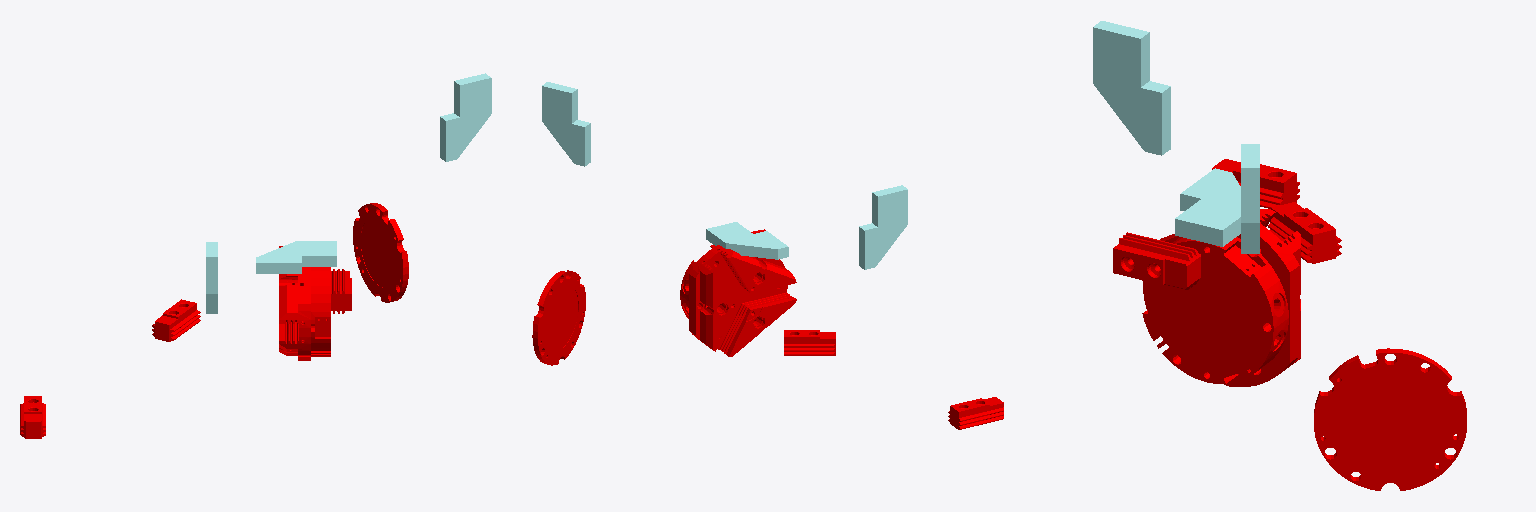
URDF robot description (gripper_schunk_kuka):
<?xml version="1.0" encoding="utf-8"?>
<!-- This URDF was automatically created by SolidWorks to URDF Exporter! Originally created by [author] ([email redacted]) 
     Commit Version: 1.5.1-0-g916b5db  Build Version: 1.5.7152.31018
     For more information, please see http://wiki.ros.org/sw_urdf_exporter -->
<robot
  name="gripper_schunk_kuka">
  <link
    name="base_link_grp">
    <inertial>
      <origin
        xyz="-0.12444 0.015119 0.11802"
        rpy="0 0 0" />
      <mass
        value="4.3869E-05" />
      <inertia
        ixx="2.7228E-08"
        ixy="3.0486E-12"
        ixz="-9.7953E-11"
        iyy="5.2891E-08"
        iyz="-8.2542E-13"
        izz="2.5932E-08" />
    </inertial>
    <visual>
      <origin
        xyz="0 0 0"
        rpy="0 0 0" />
      <geometry>
        <mesh
          filename="package://gripper_schunk_kuka/meshes/base_link_grp.STL" />
      </geometry>
      <material
        name="">
        <color
          rgba="1 0 0 1" />
      </material>
    </visual>
    <collision>
      <origin
        xyz="0 0 0"
        rpy="0 0 0" />
      <geometry>
        <mesh
          filename="package://gripper_schunk_kuka/meshes/base_link_grp.STL" />
      </geometry>
    </collision>
  </link>
  <link
    name="structure_grp">
    <inertial>
      <origin
        xyz="-0.00021291 0.023532 3.5559E-05"
        rpy="0 0 0" />
      <mass
        value="0.00035228" />
      <inertia
        ixx="3.1958E-07"
        ixy="-1.5683E-10"
        ixz="-2.4056E-09"
        iyy="5.08E-07"
        iyz="-5.9261E-10"
        izz="3.2245E-07" />
    </inertial>
    <visual>
      <origin
        xyz="0 0 0"
        rpy="0 0 0" />
      <geometry>
        <mesh
          filename="package://gripper_schunk_kuka/meshes/structure_grp.STL" />
      </geometry>
      <material
        name="">
        <color
          rgba="1 0 0 1" />
      </material>
    </visual>
    <collision>
      <origin
        xyz="0 0 0"
        rpy="0 0 0" />
      <geometry>
        <mesh
          filename="package://gripper_schunk_kuka/meshes/structure_grp.STL" />
      </geometry>
    </collision>
  </link>
  <joint
    name="base_to_str_grp"
    type="fixed">
    <origin
      xyz="-0.12498 -0.11817 0.018142"
      rpy="1.5708 0 2.618" />
    <parent
      link="base_link_grp" />
    <child
      link="structure_grp" />
    <axis
      xyz="0 0 0" />
  </joint>

  <link
    name="guide_1_grp">
    <inertial>
      <origin
        xyz="9.8421E-12 0.0094502 0.027502"
        rpy="0 0 0" />
      <mass
        value="2.1395E-05" />
      <inertia
        ixx="5.8843E-09"
        ixy="1.1603E-18"
        ixz="4.0999E-18"
        iyy="6.0491E-09"
        iyz="-7.7428E-11"
        izz="1.5164E-09" />
    </inertial>
    <visual>
      <origin
        xyz="0 0 0"
        rpy="0 0 0" />
      <geometry>
        <mesh
          filename="package://gripper_schunk_kuka/meshes/guide_1_grp.STL" />
      </geometry>
      <material
        name="">
        <color
          rgba="1 0 0 1" />
      </material>
    </visual>
    <collision>
      <origin
        xyz="0 0 0"
        rpy="0 0 0" />
      <geometry>
        <mesh
          filename="package://gripper_schunk_kuka/meshes/guide_1_grp.STL" />
      </geometry>
    </collision>
  </link>
  <joint
    name="str_to_g1_grp"
    type="fixed">
    <origin
      xyz="0 0.0321 -0.0043"
      rpy="3.1416 0 3.1416" />
    <parent
      link="structure_grp" />
    <child
      link="guide_1_grp" />
    <axis
      xyz="0 0 0" />
  </joint>
  <link
    name="finger1_grp">
    <inertial>
      <origin
        xyz="0.0099787 0.037092 0.006"
        rpy="0 0 0" />
      <mass
        value="0.03384" />
      <inertia
        ixx="1.5168E-05"
        ixy="5.5629E-06"
        ixz="5.5057E-21"
        iyy="6.9613E-06"
        iyz="-2.9646E-21"
        izz="2.1317E-05" />
    </inertial>
    <visual>
      <origin
        xyz="0 0 0"
        rpy="0 0 0" />
      <geometry>
        <mesh
          filename="package://gripper_schunk_kuka/meshes/finger1_grp.STL" />
      </geometry>
      <material
        name="">
        <color
          rgba="0.75294 1 1 1" />
      </material>
    </visual>
    <collision>
      <origin
        xyz="0 0 0"
        rpy="0 0 0" />
      <geometry>
        <mesh
          filename="package://gripper_schunk_kuka/meshes/finger1_grp.STL" />
      </geometry>
    </collision>
  </link>
  <joint
    name="g1_to_f1_grp"
    type="fixed">
    <origin
      xyz="0.006 0.0209 0.0165"
      rpy="0 -1.5708 0" />
    <parent
      link="guide_1_grp" />
    <child
      link="finger1_grp" />
    <axis
      xyz="0 0 0" />
  </joint>

  <link
    name="guide_2_grp">
    <inertial>
      <origin
        xyz="9.84202996878736E-12 0.00945024176112787 0.0275015665025582"
        rpy="0 0 0" />
      <mass
        value="2.13946053960986E-05" />
      <inertia
        ixx="5.88431731307912E-09"
        ixy="1.15652657683827E-18"
        ixz="4.16310883451617E-18"
        iyy="6.04914588284188E-09"
        iyz="-7.74283160161931E-11"
        izz="1.51641396909182E-09" />
    </inertial>
    <visual>
      <origin
        xyz="0 0 0"
        rpy="0 0 0" />
      <geometry>
        <mesh
          filename="package://gripper_schunk_kuka/meshes/guide_2_grp.STL" />
      </geometry>
      <material
        name="">
        <color
          rgba="1 0 0 1" />
      </material>
    </visual>
    <collision>
      <origin
        xyz="0 0 0"
        rpy="0 0 0" />
      <geometry>
        <mesh
          filename="package://gripper_schunk_kuka/meshes/guide_2_grp.STL" />
      </geometry>
    </collision>
  </link>

  <joint
    name="str_to_g2_grp"
    type="fixed">
    <origin
      xyz="-0.0037239 0.0321 0.00215"
      rpy="0 -1.0472 0" />
    <parent
      link="structure_grp" />
    <child
      link="guide_2_grp" />
    <axis
      xyz="0 0 0" />
  </joint>


  <link
    name="finger2_grp">
    <inertial>
      <origin
        xyz="0.0099787 0.037092 0.006"
        rpy="0 0 0" />
      <mass
        value="0.03384" />
      <inertia
        ixx="1.5168E-05"
        ixy="5.5629E-06"
        ixz="4.768E-23"
        iyy="6.9613E-06"
        iyz="1.4988E-22"
        izz="2.1317E-05" />
    </inertial>
    <visual>
      <origin
        xyz="0 0 0"
        rpy="0 0 0" />
      <geometry>
        <mesh
          filename="package://gripper_schunk_kuka/meshes/finger2_grp.STL" />
      </geometry>
      <material
        name="">
        <color
          rgba="0.75294 1 1 1" />
      </material>
    </visual>
    <collision>
      <origin
        xyz="0 0 0"
        rpy="0 0 0" />
      <geometry>
        <mesh
          filename="package://gripper_schunk_kuka/meshes/finger2_grp.STL" />
      </geometry>
    </collision>
  </link>
  <joint
    name="g2_to_f2_grp"
    type="fixed">
    <origin
      xyz="0.006 0.0209 0.0165"
      rpy="3.1416 -1.5708 0" />
    <parent
      link="guide_2_grp" />
    <child
      link="finger2_grp" />
    <axis
      xyz="0 0 0" />
  </joint>
  <link
    name="guide_3_grp">
    <inertial>
      <origin
        xyz="0.0087239 0.0094502 0.025291"
        rpy="0 0 0" />
      <mass
        value="2.1395E-05" />
      <inertia
        ixx="5.8843E-09"
        ixy="1.1603E-18"
        ixz="4.0999E-18"
        iyy="6.0491E-09"
        iyz="-7.7428E-11"
        izz="1.5164E-09" />
    </inertial>
    <visual>
      <origin
        xyz="0 0 0"
        rpy="0 0 0" />
      <geometry>
        <mesh
          filename="package://gripper_schunk_kuka/meshes/guide_3_grp.STL" />
      </geometry>
      <material
        name="">
        <color
          rgba="1 0 0 1" />
      </material>
    </visual>
    <collision>
      <origin
        xyz="0 0 0"
        rpy="0 0 0" />
      <geometry>
        <mesh
          filename="package://gripper_schunk_kuka/meshes/guide_3_grp.STL" />
      </geometry>
    </collision>
  </link>
  <joint
    name="str_to_g3_grp"
    type="fixed">
    <origin
      xyz="0.0012761 0.0321 0.01081"
      rpy="0 1.0472 0" />
    <parent
      link="structure_grp" />
    <child
      link="guide_3_grp" />
    <axis
      xyz="0 0 0" />
  </joint>
  <link
    name="finger3_grp">
    <inertial>
      <origin
        xyz="0.0099787 0.037092 0.006"
        rpy="0 0 0" />
      <mass
        value="0.03384" />
      <inertia
        ixx="1.5168E-05"
        ixy="5.5629E-06"
        ixz="-6.7763E-21"
        iyy="6.9613E-06"
        iyz="4.6587E-21"
        izz="2.1317E-05" />
    </inertial>
    <visual>
      <origin
        xyz="0 0 0"
        rpy="0 0 0" />
      <geometry>
        <mesh
          filename="package://gripper_schunk_kuka/meshes/finger3_grp.STL" />
      </geometry>
      <material
        name="">
        <color
          rgba="0.75294 1 1 1" />
      </material>
    </visual>
    <collision>
      <origin
        xyz="0 0 0"
        rpy="0 0 0" />
      <geometry>
        <mesh
          filename="package://gripper_schunk_kuka/meshes/finger3_grp.STL" />
      </geometry>
    </collision>
  </link>
  <joint
    name="g3_to_f3_grp"
    type="fixed">
    <origin
      xyz="0.014724 0.0209 0.01429"
      rpy="3.1416 -1.5708 0" />
    <parent
      link="guide_3_grp" />
    <child
      link="finger3_grp" />
    <axis
      xyz="0 0 0" />
  </joint>
</robot>

--- Render facts (derived) ---
Views: 3 orthographic renders of the robot side by side, from view 1: azimuth 30°, elevation 25°; view 2: azimuth 150°, elevation 25°; view 3: azimuth 270°, elevation 25°.
Model gripper_schunk_kuka with 8 links and 7 joints (7 fixed), rooted at base_link_grp, posed all joints at 0.
Links seen in each view (by area): view 1: structure_grp, base_link_grp, finger3_grp, finger1_grp, guide_2_grp, guide_3_grp, finger2_grp, guide_1_grp; view 2: structure_grp, base_link_grp, finger3_grp, finger2_grp, finger1_grp, guide_3_grp, guide_2_grp; view 3: structure_grp, base_link_grp, finger2_grp, finger1_grp, guide_1_grp, guide_2_grp, finger3_grp, guide_3_grp.
Link boxes in pixels (x1,y1,x2,y2): structure_grp: (279, 246, 330, 360); base_link_grp: (353, 203, 408, 302); finger3_grp: (440, 73, 491, 161); finger1_grp: (256, 241, 336, 273); guide_2_grp: (152, 299, 200, 341); guide_3_grp: (20, 396, 45, 438); finger2_grp: (206, 242, 217, 313); guide_1_grp: (331, 269, 351, 313); structure_grp: (680, 245, 796, 356); base_link_grp: (532, 270, 585, 365); finger3_grp: (542, 82, 590, 166); finger2_grp: (859, 185, 907, 269); finger1_grp: (706, 222, 788, 259); guide_3_grp: (948, 397, 1003, 429); guide_2_grp: (784, 330, 835, 355); structure_grp: (1142, 209, 1300, 386); base_link_grp: (1314, 348, 1466, 490); finger2_grp: (1093, 21, 1170, 155); finger1_grp: (1175, 168, 1240, 246); guide_1_grp: (1113, 232, 1200, 289); guide_2_grp: (1268, 202, 1341, 263); finger3_grp: (1241, 144, 1259, 253); guide_3_grp: (1212, 159, 1299, 208).
Bounding box of the posed robot: 0.5411 × 0.2434 × 0.2637 m (x, y, z).
8 mesh visuals loaded from 8 distinct referenced files (8 binary STL).